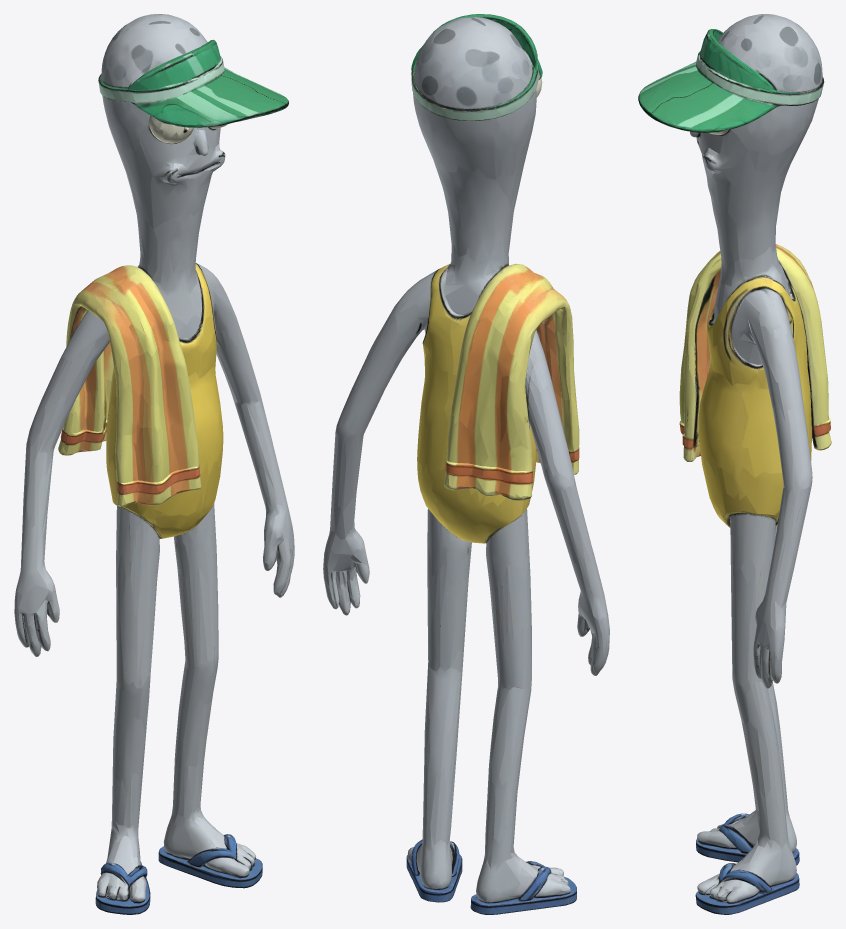
File: resortguest-b.glb
3 renders of one model, left to right at view 1: azimuth 30°, elevation 25°; view 2: azimuth 150°, elevation 25°; view 3: azimuth 270°, elevation 25°, orthographic. The views are drawn at different scales.
Bounding box in the file's own units: 0.6474 × 1.9 × 0.3888.
1 material, 1 textured.
